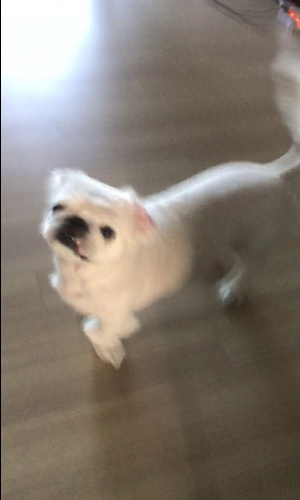ddubi: (37, 45, 300, 375)
